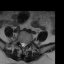CCS_normal: (22, 40, 24, 50)
LFS_normal: (26, 40, 28, 47)
LLS_normal: (24, 40, 26, 48)
RFS_normal: (18, 38, 20, 45)
RLS_normal: (20, 40, 22, 47)
